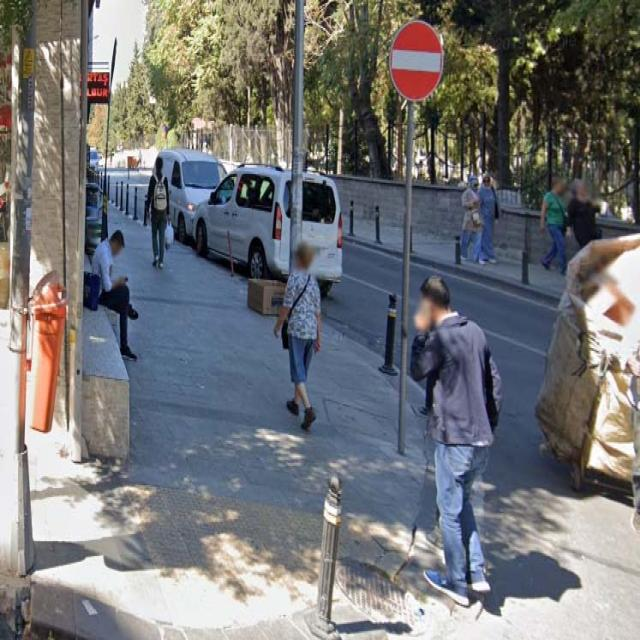girisyok: (391, 21, 444, 100)
